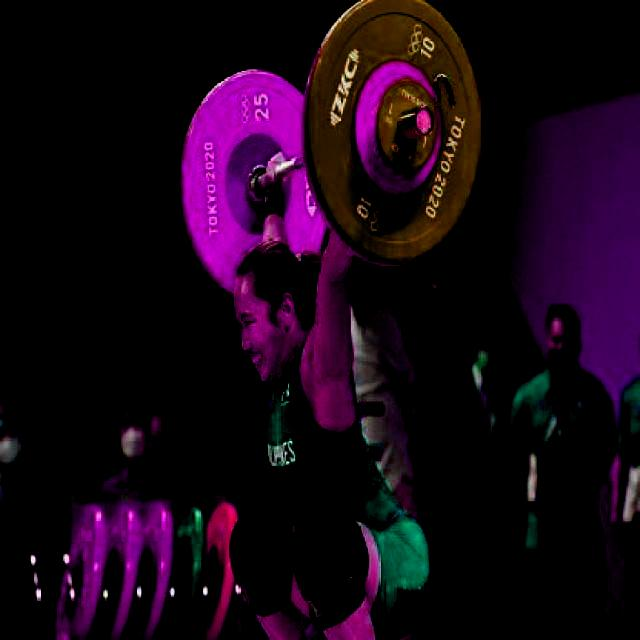barbell: (302, 1, 494, 268)
